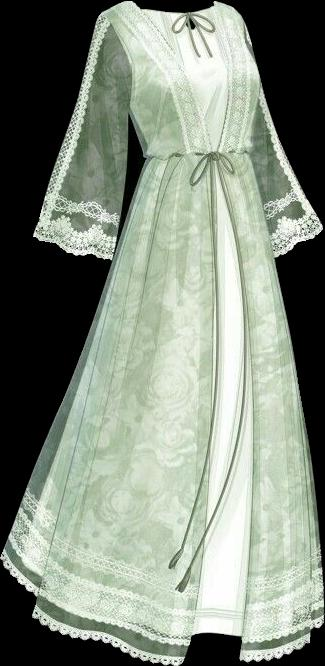Bodice: (99, 1, 261, 159)
Hemline: (0, 552, 324, 665), (213, 162, 260, 646), (189, 162, 225, 641)
Neckline: (127, 4, 228, 158), (127, 0, 220, 20)
Skirt: (4, 154, 323, 665)
Sleeve: (34, 11, 132, 259)
Sleeveline: (101, 13, 137, 118)
Waistline: (144, 148, 252, 165)
